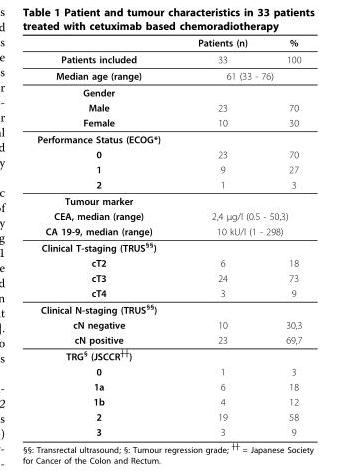table: (36, 36, 301, 437)
table column: (36, 36, 178, 437), (178, 36, 266, 437), (266, 36, 301, 437)
table column header: (36, 36, 301, 50)
table projected row header: (36, 238, 301, 255), (36, 346, 301, 363), (36, 83, 301, 99), (36, 130, 301, 146), (36, 192, 301, 208), (36, 300, 301, 316)
table row: (36, 50, 301, 67), (36, 238, 301, 255), (36, 346, 301, 363), (36, 67, 301, 83), (36, 83, 301, 99), (36, 114, 301, 130), (36, 130, 301, 146), (36, 176, 301, 192), (36, 192, 301, 208), (36, 300, 301, 316), (36, 99, 301, 114), (36, 146, 301, 161), (36, 161, 301, 176), (36, 208, 301, 223), (36, 223, 301, 238), (36, 255, 301, 270), (36, 270, 301, 285), (36, 285, 301, 300), (36, 316, 301, 331), (36, 331, 301, 346), (36, 363, 301, 378), (36, 378, 301, 393), (36, 393, 301, 408), (36, 408, 301, 423), (36, 36, 301, 50), (36, 423, 301, 437)
table spanning cell: (178, 67, 301, 83), (178, 208, 301, 223), (178, 223, 301, 238)
